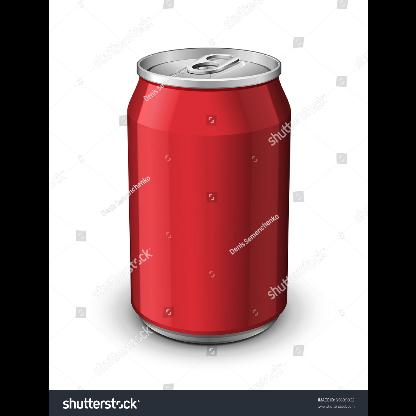Tin_Can: (124, 40, 290, 344)
